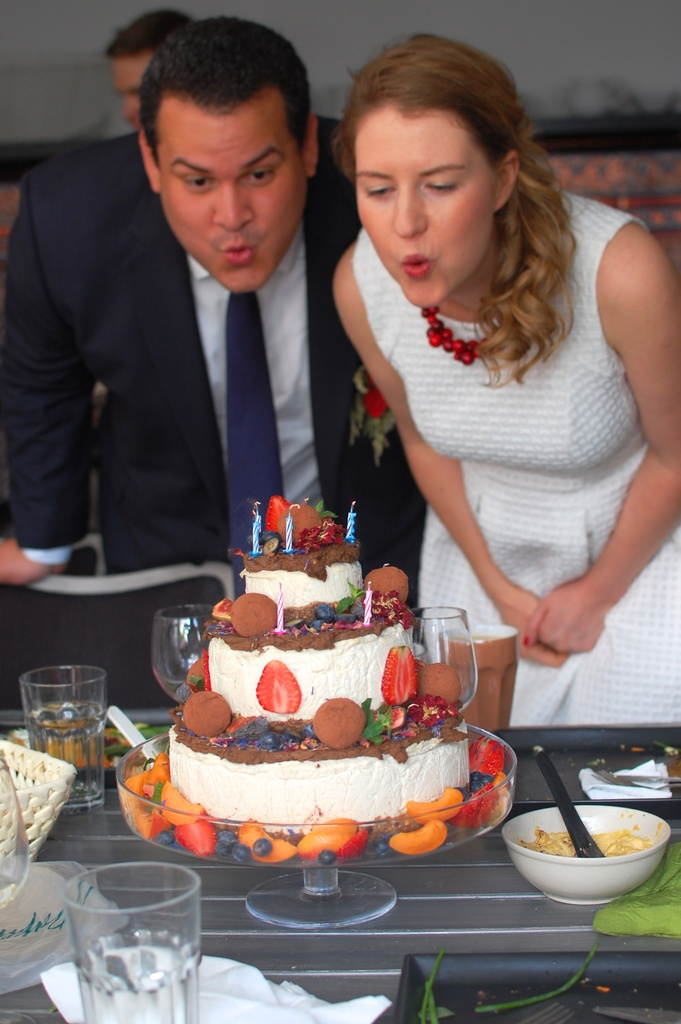cake: (167, 545, 471, 836)
